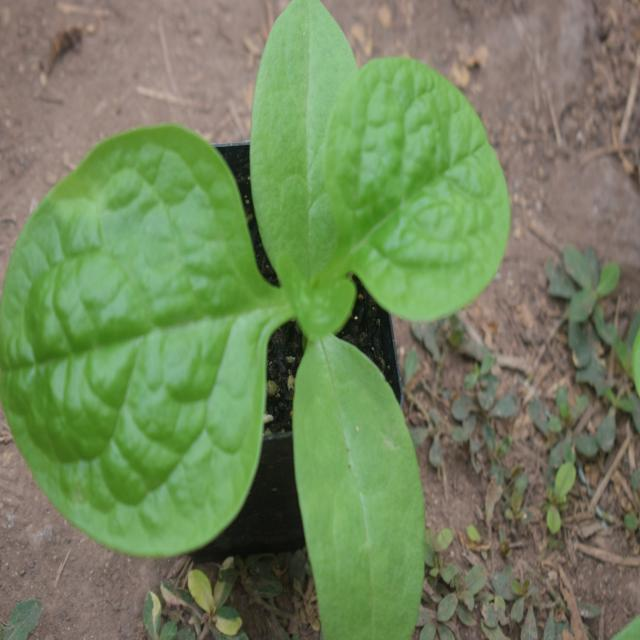Ceylon spinach: (16, 37, 520, 591)
